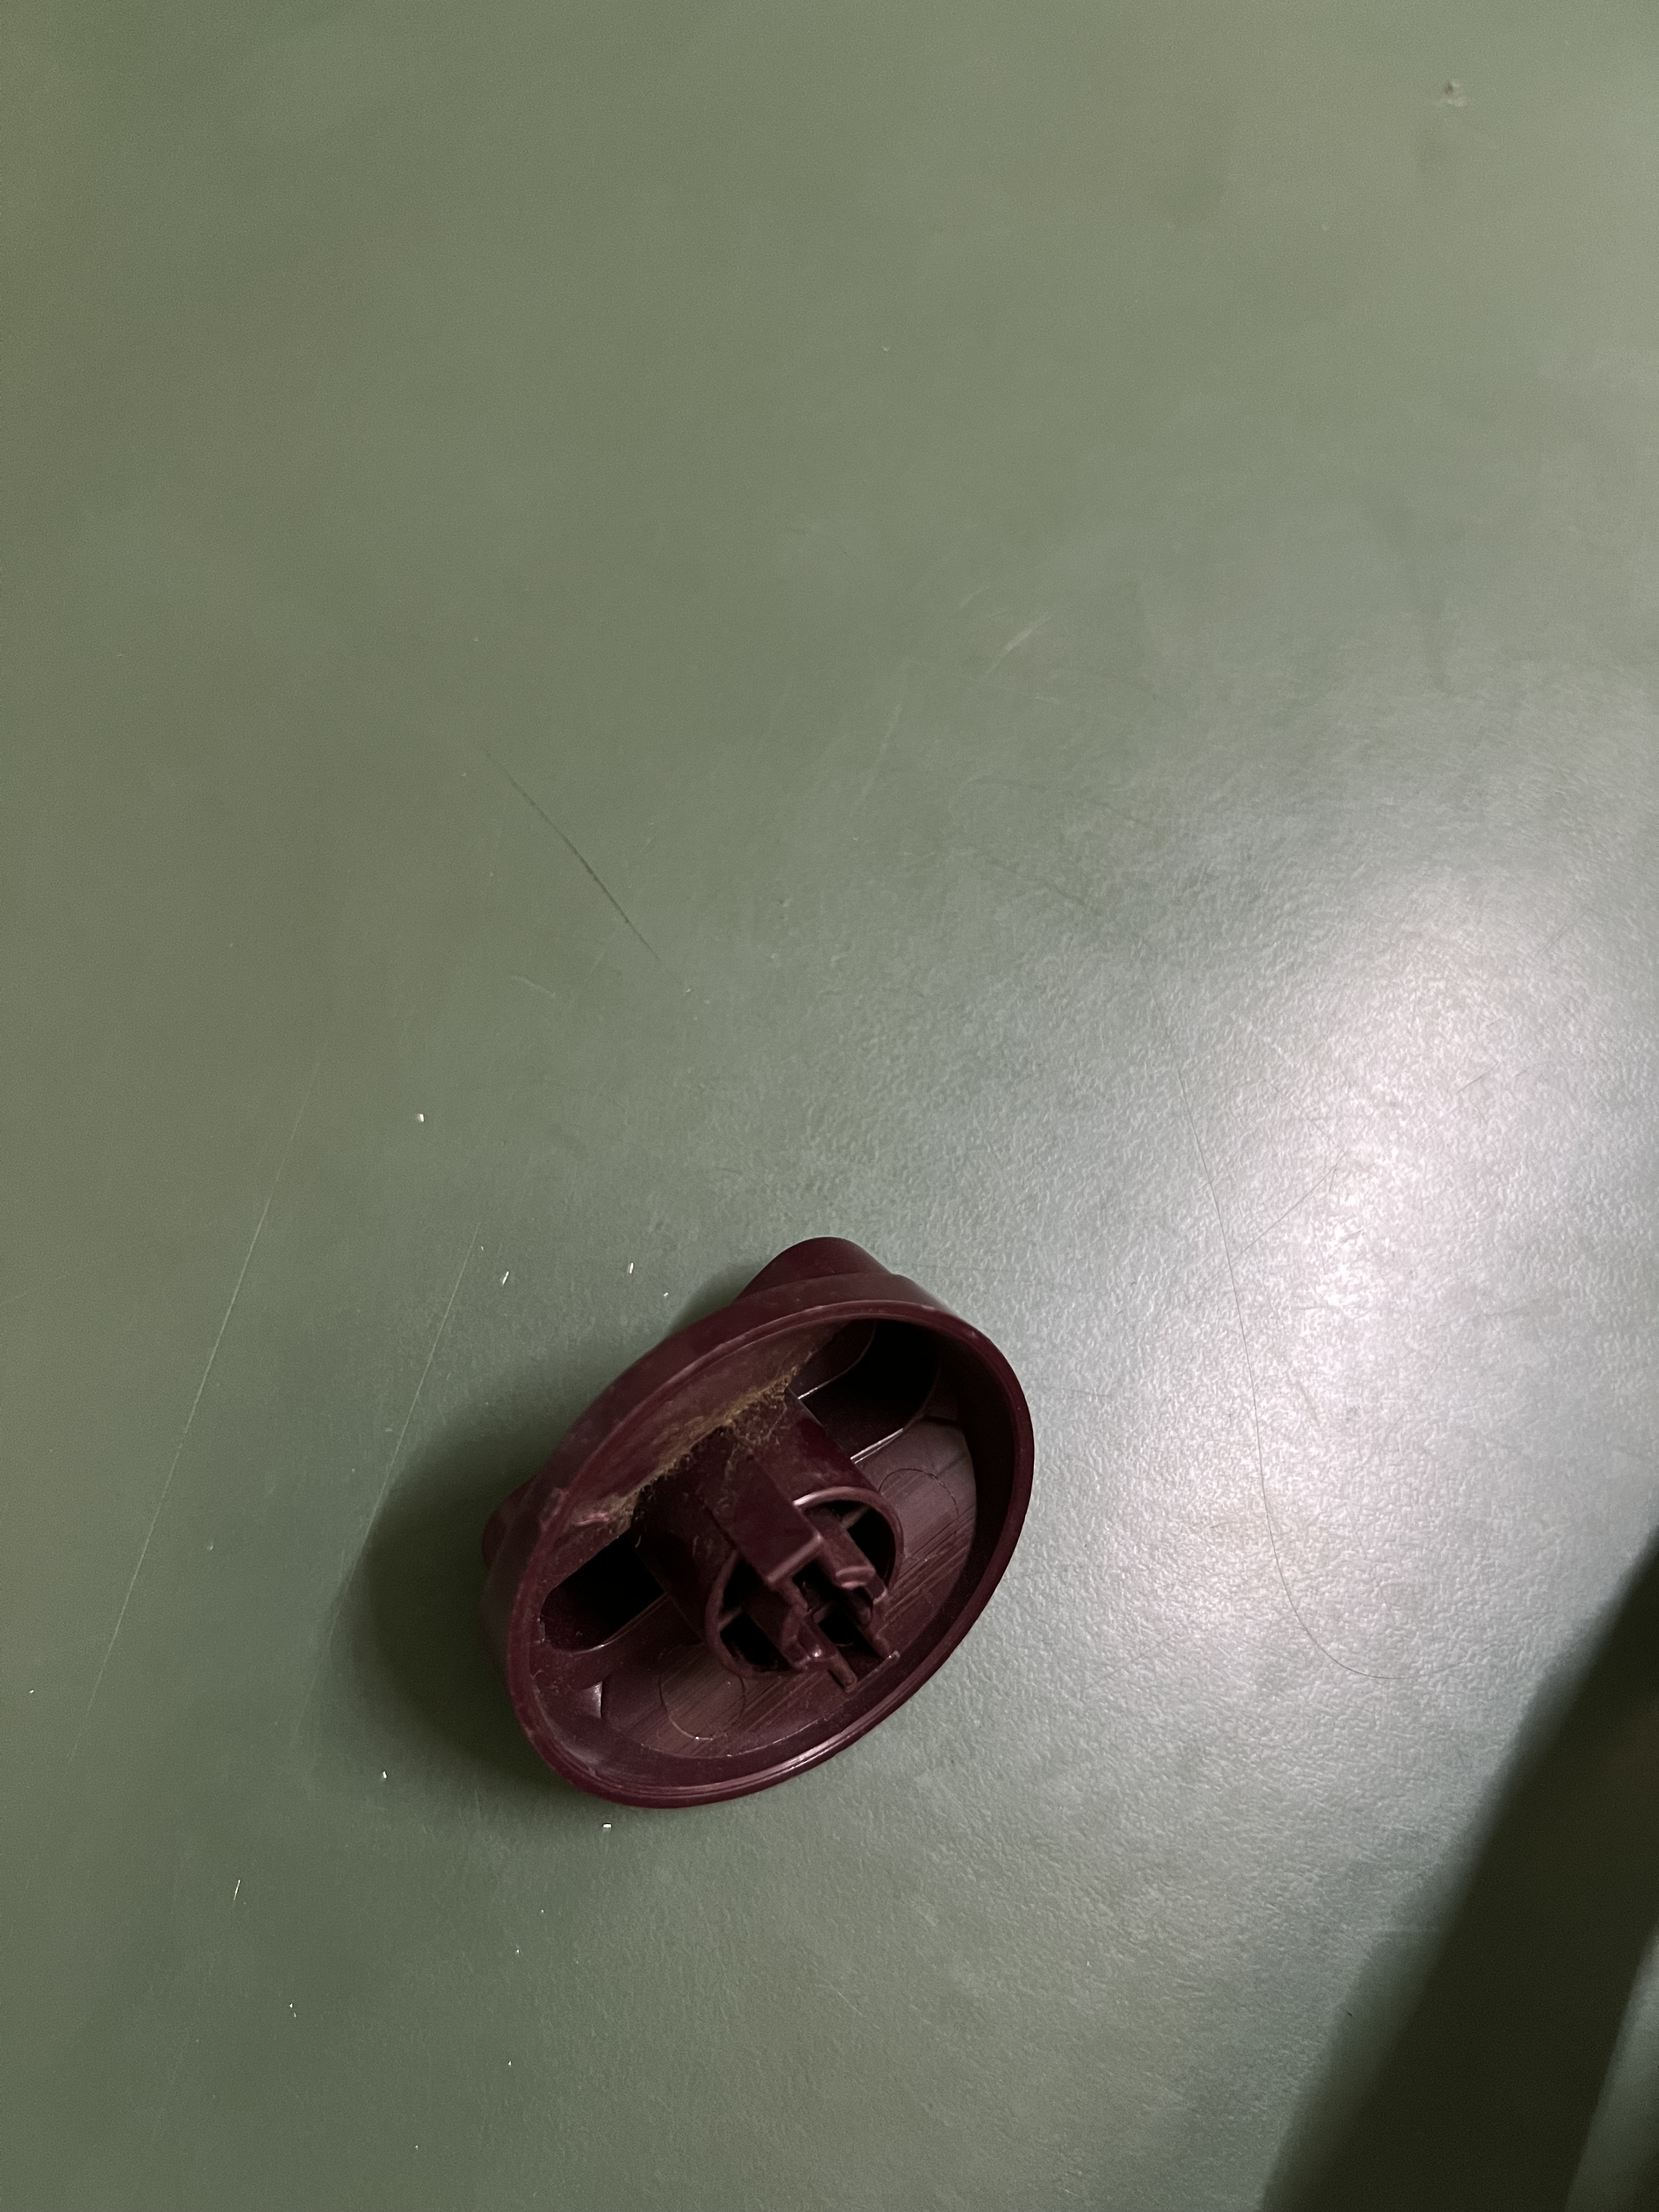regulator: (493, 1220, 1041, 1810)
